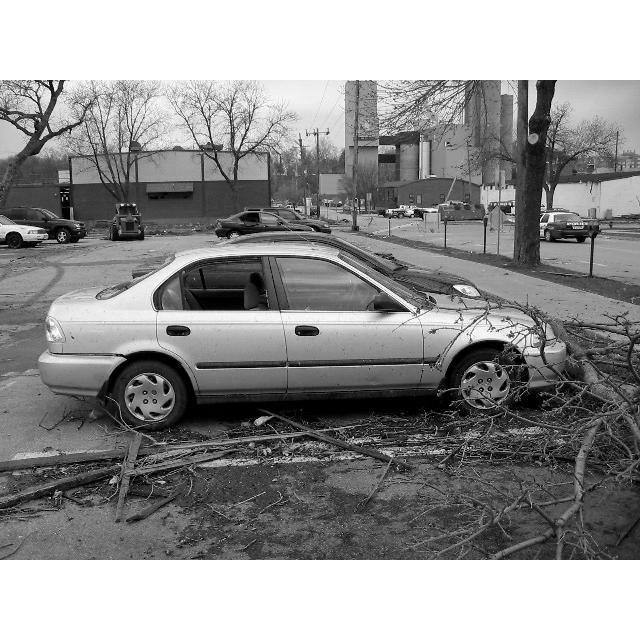doorouter-dent: (288, 325, 430, 410)
